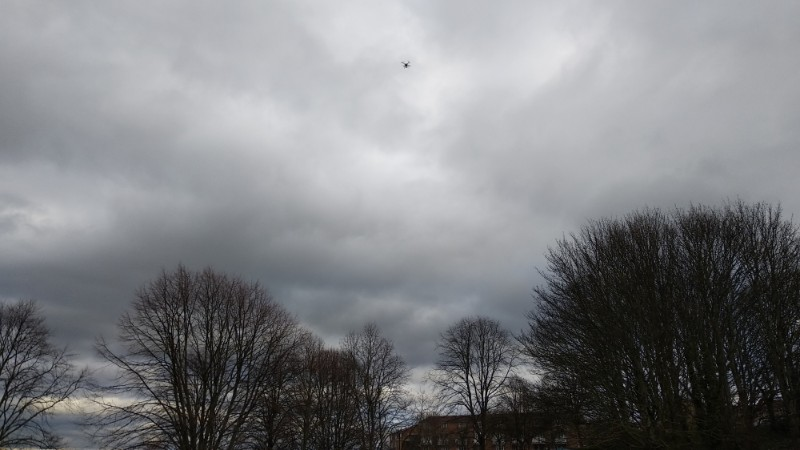drone: (398, 60, 413, 69)
